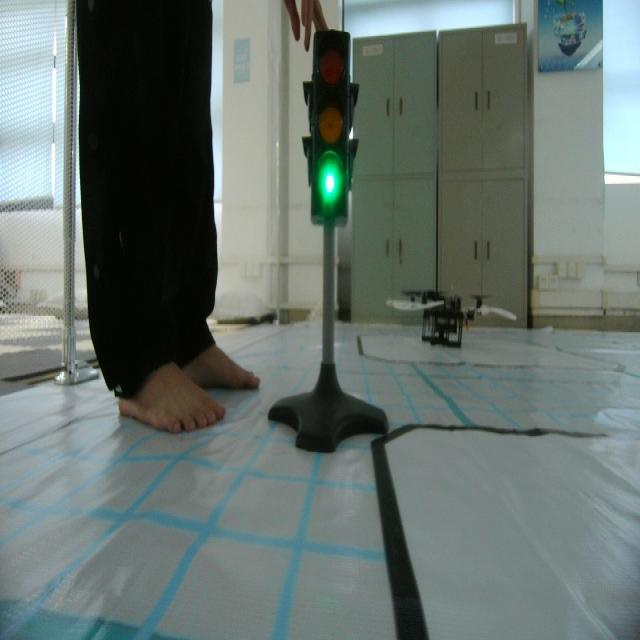green: (303, 28, 360, 233)
